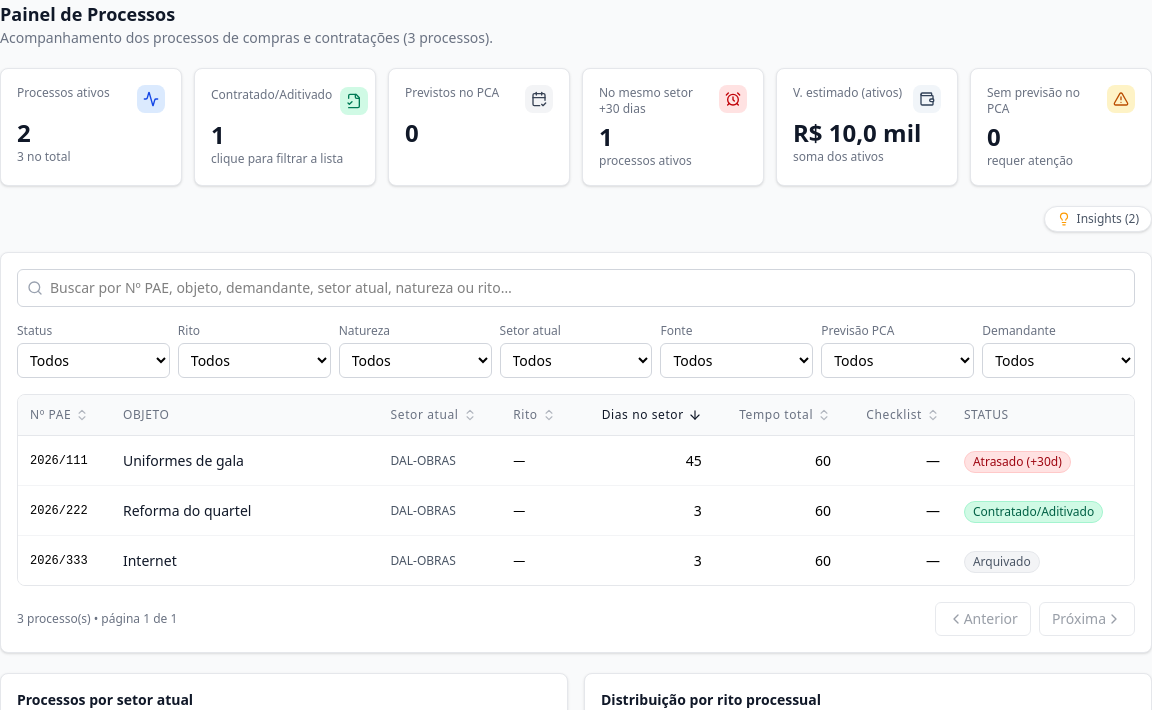
it: PainelProcessos › o processo parado há mais de 30 dias aparece como atrasado e gera ponto de atenção
The width and height of the screenshot is (1152, 710).
Expected: the text "Atrasado (+30d)" is shown, left=964, top=451, right=1071, bottom=473
Click the button "Insights (2)".
click(1098, 219)  # box left=1044, top=206, right=1151, bottom=232
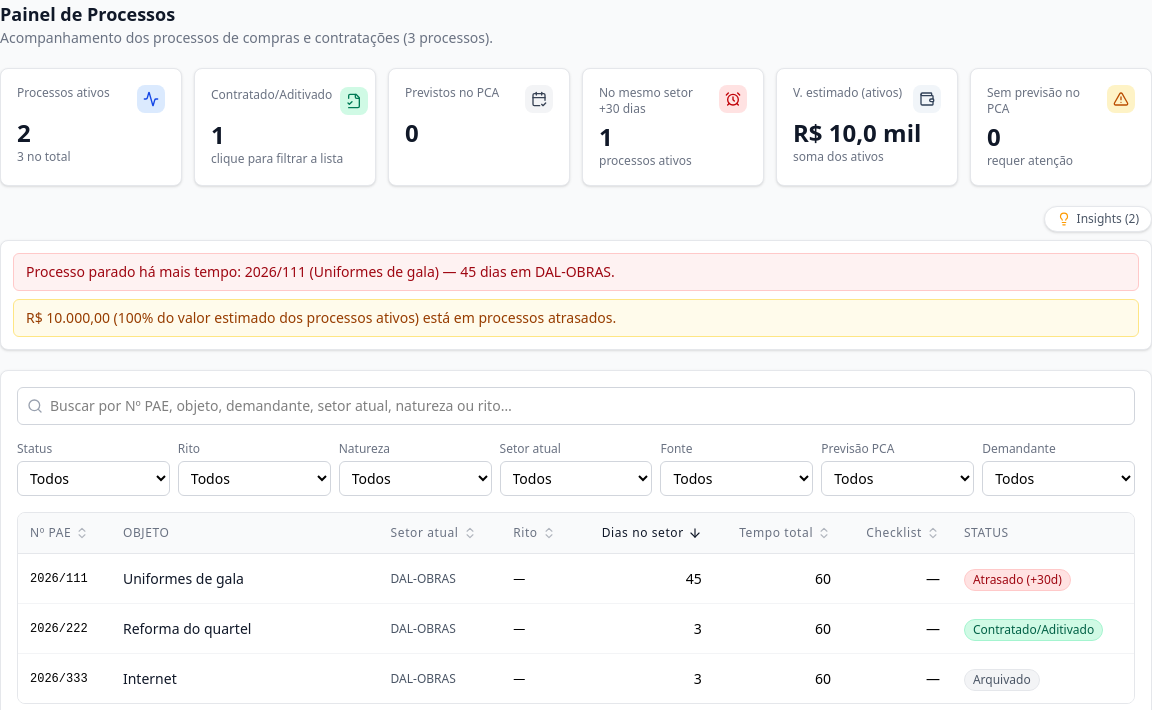
Result: the list item "Processo parado há mais tempo: 2026/111" is shown at left=26, top=262, right=615, bottom=281
